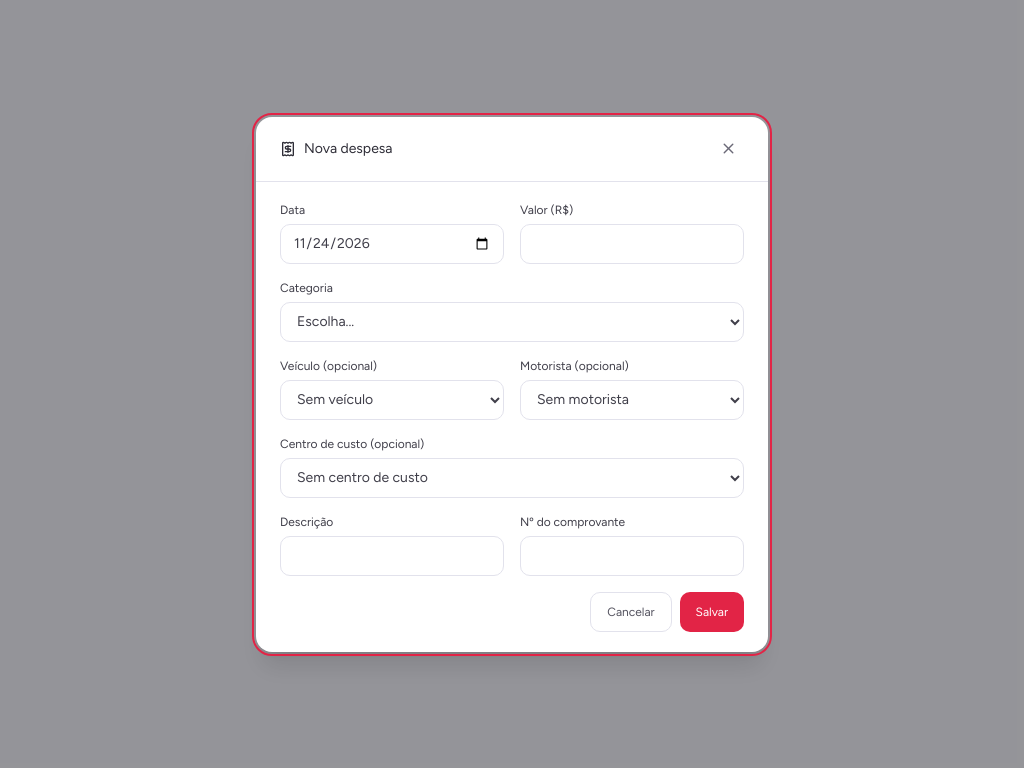
DespesaAvulsaModal: valor em reais › valor  mostra o erro no campo e não envia
Select "Pedágio" in the dropdown labelled "Categoria": (512, 322) [280,302,744,342]
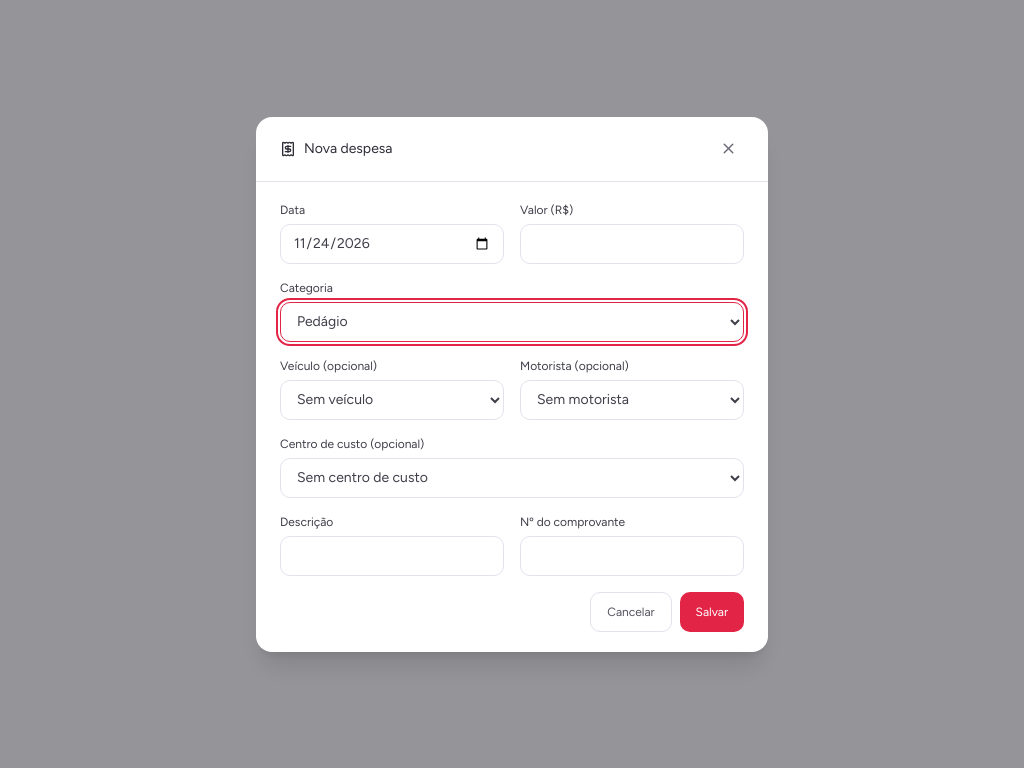
Click the button "Salvar": (712, 612) [680,592,744,632]
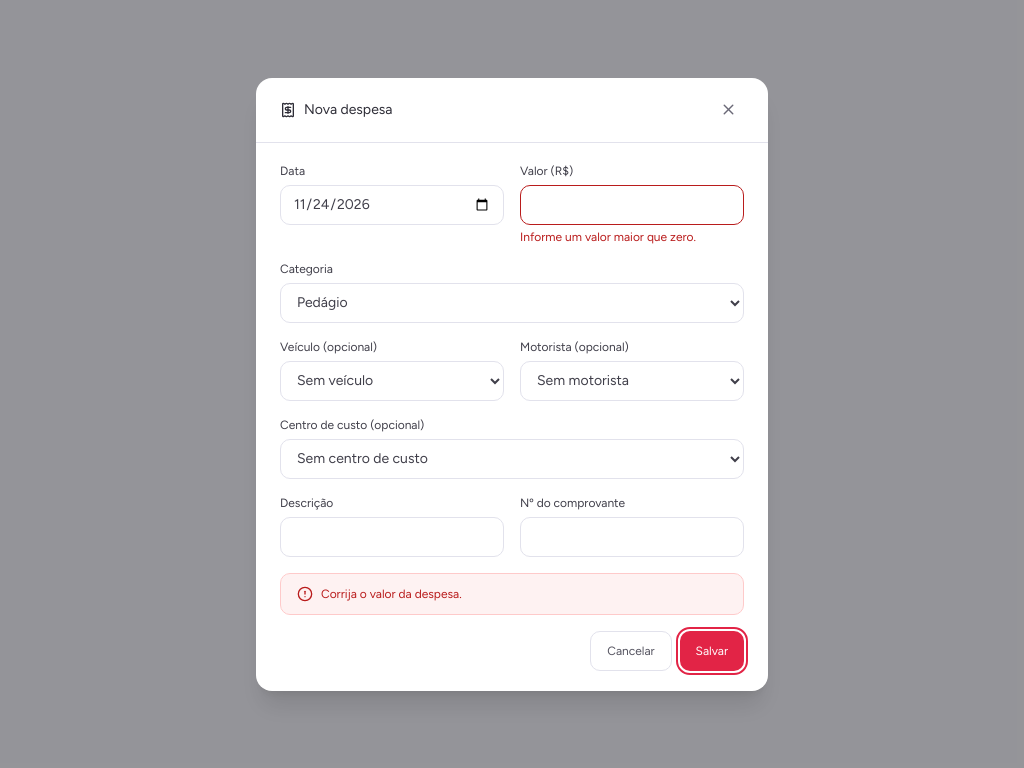
Now the text "Informe um valor maior que zero." is shown, box [520,230,696,244]
